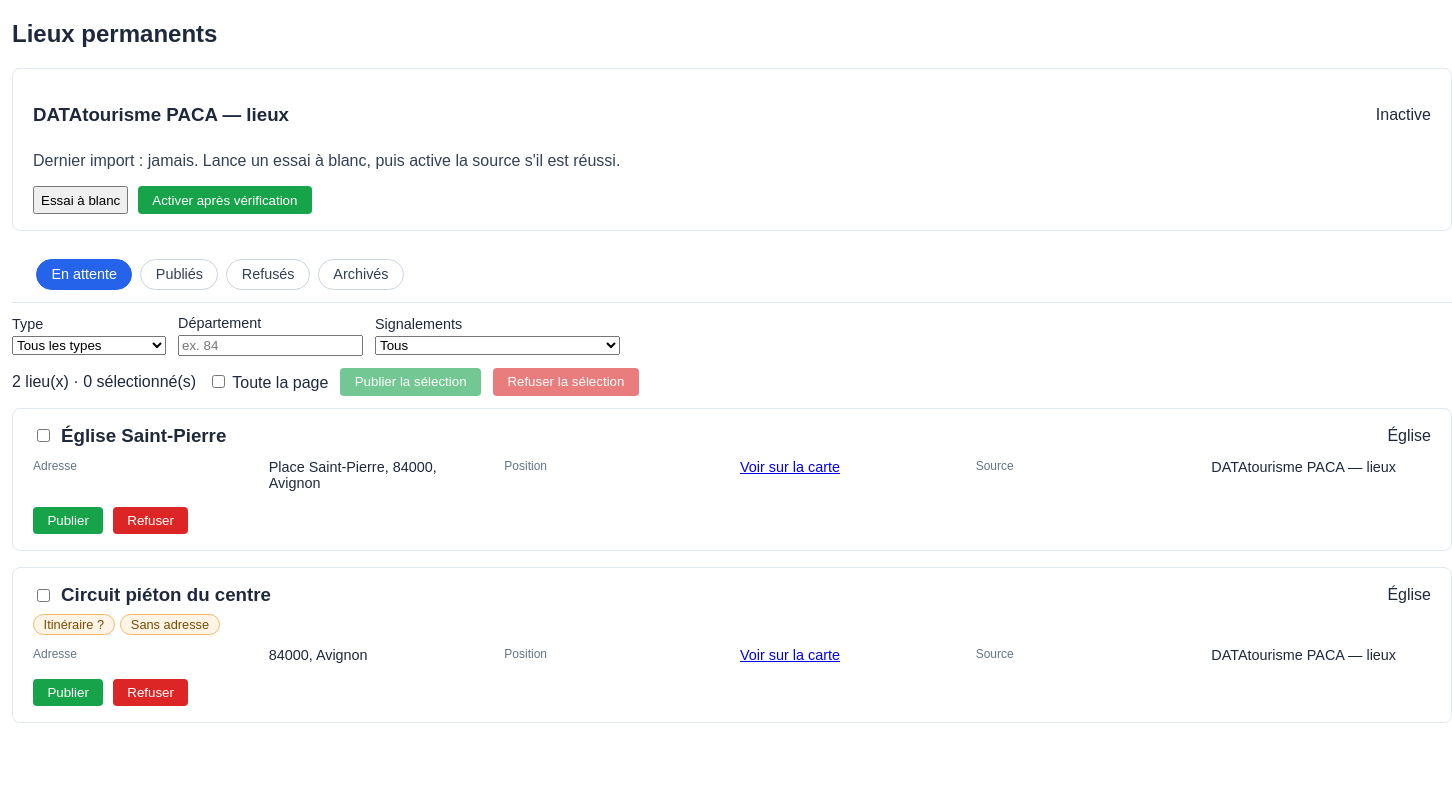
AdminPlacesSection › publie une sélection par une action groupée, après confirmation
This screenshot has width=1452, height=810.
Expected: the heading "Église Saint-Pierre" is shown, [61, 425, 226, 447]
Click the checkbox labelled "Toute la page": (219, 381) [212, 375, 225, 388]
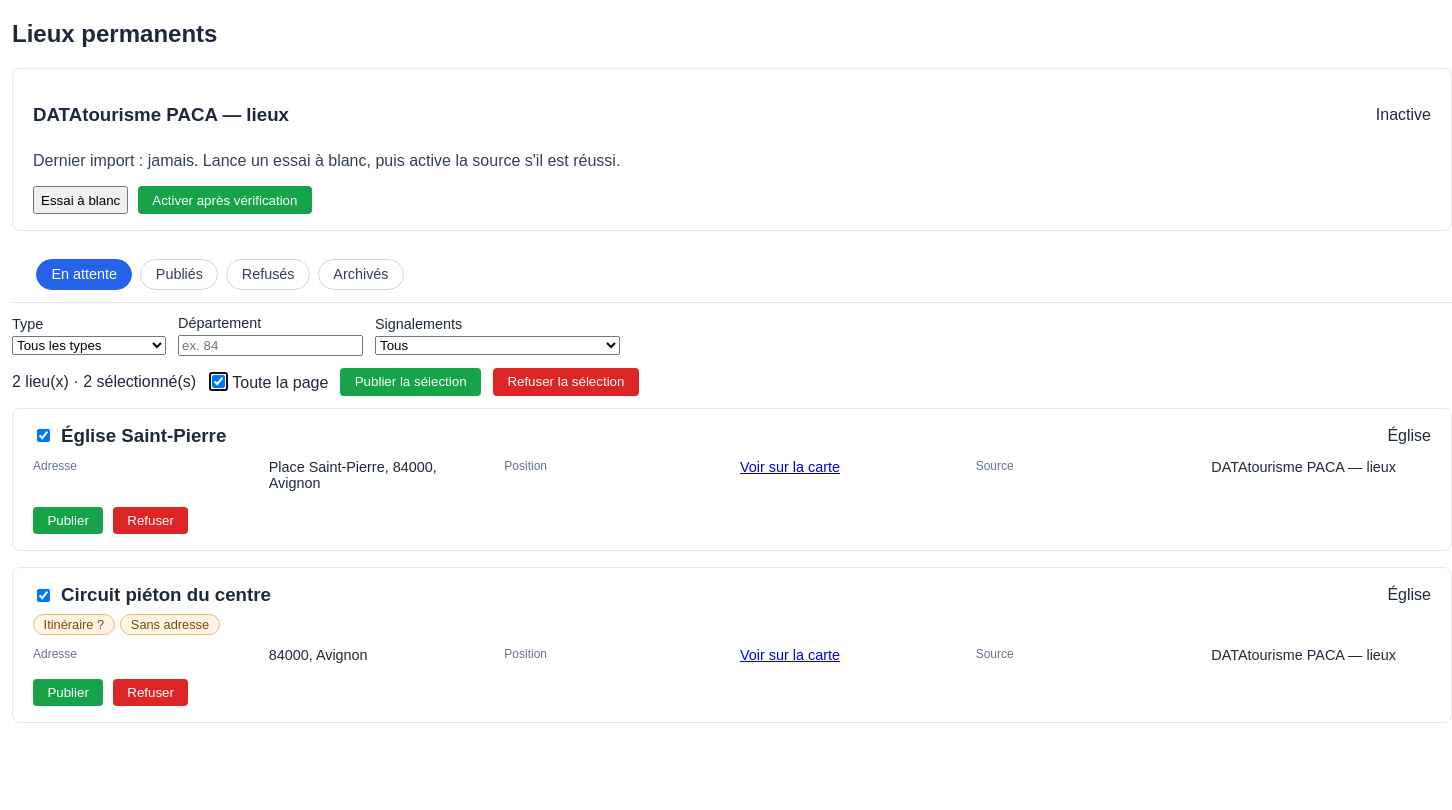
Click the button "Publier la sélection": (411, 382) [340, 368, 481, 396]
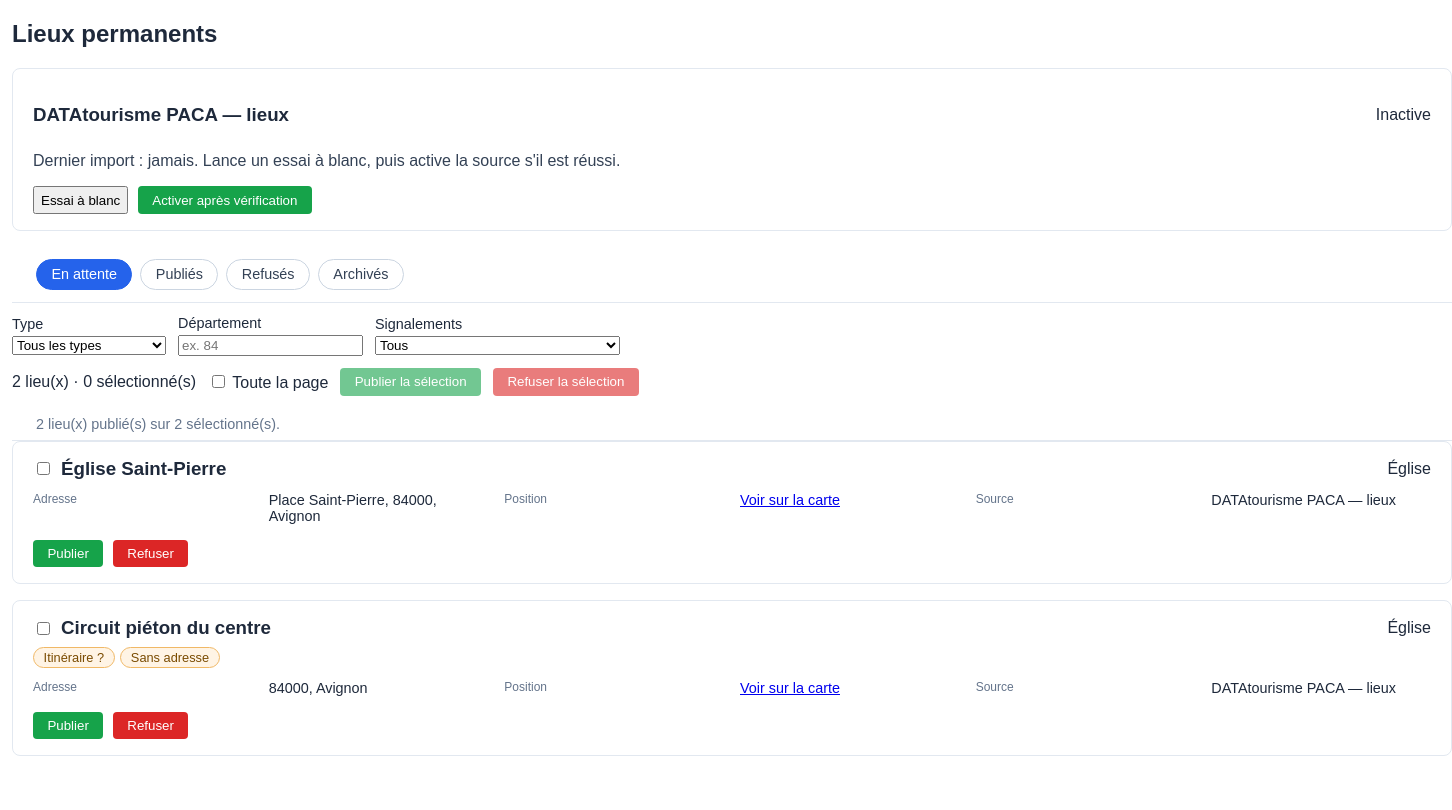
Now the text "2 lieu(x) publié(s) sur 2 sélectionné(s)." is shown, box [12, 408, 1451, 441]
